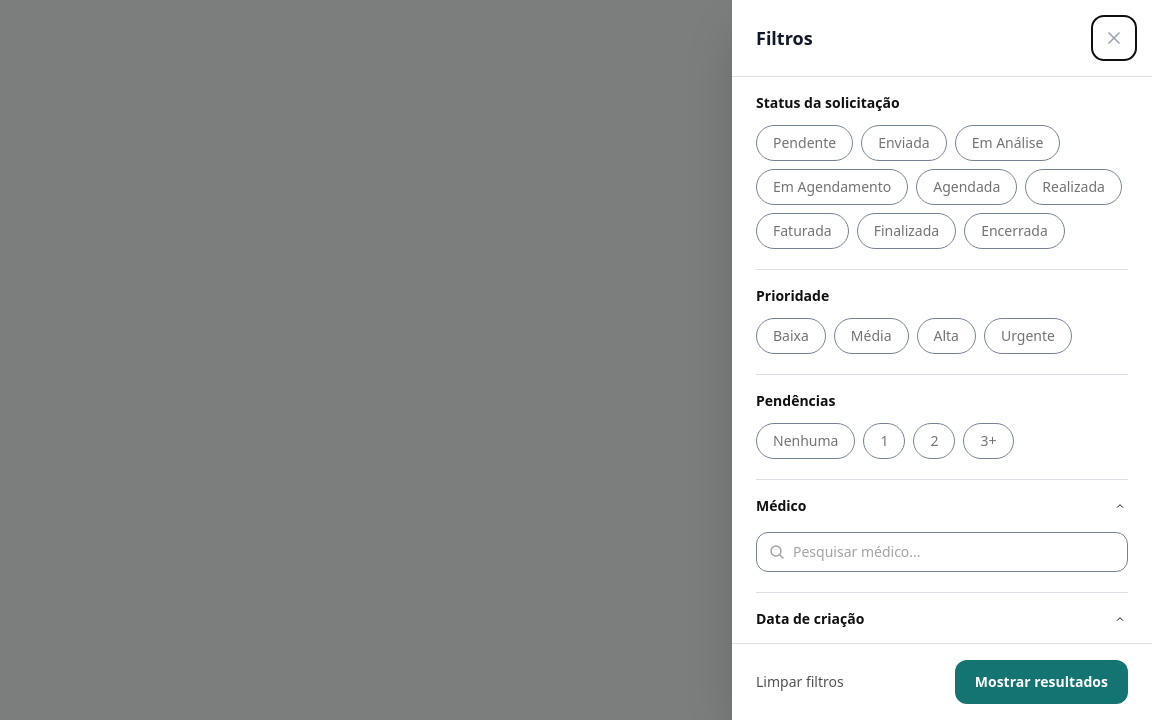
it: FilterModal — Filtro por Médico › deve filtrar médicos pelo texto digitado
Type "Santos" into the field with placeholder "Pesquisar médico...". click: (954, 552)
box: [793,542,1115,562]
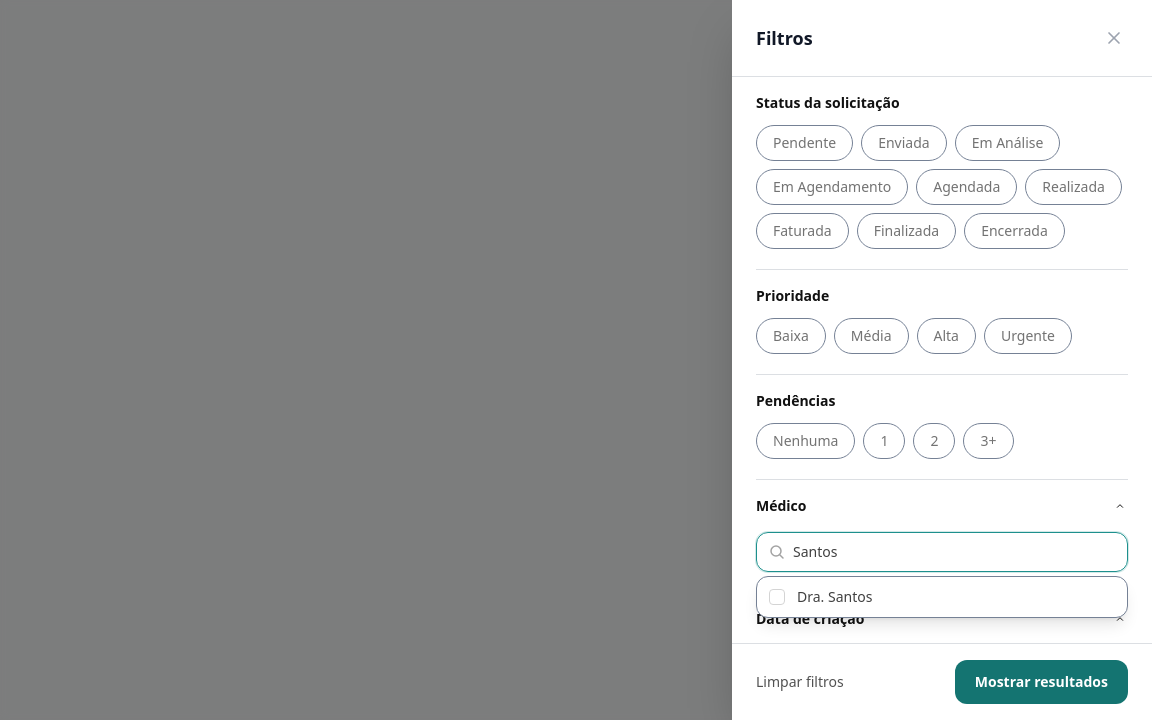
expect the text "Dra. Santos" is shown: met, box [797,587,872,607]
